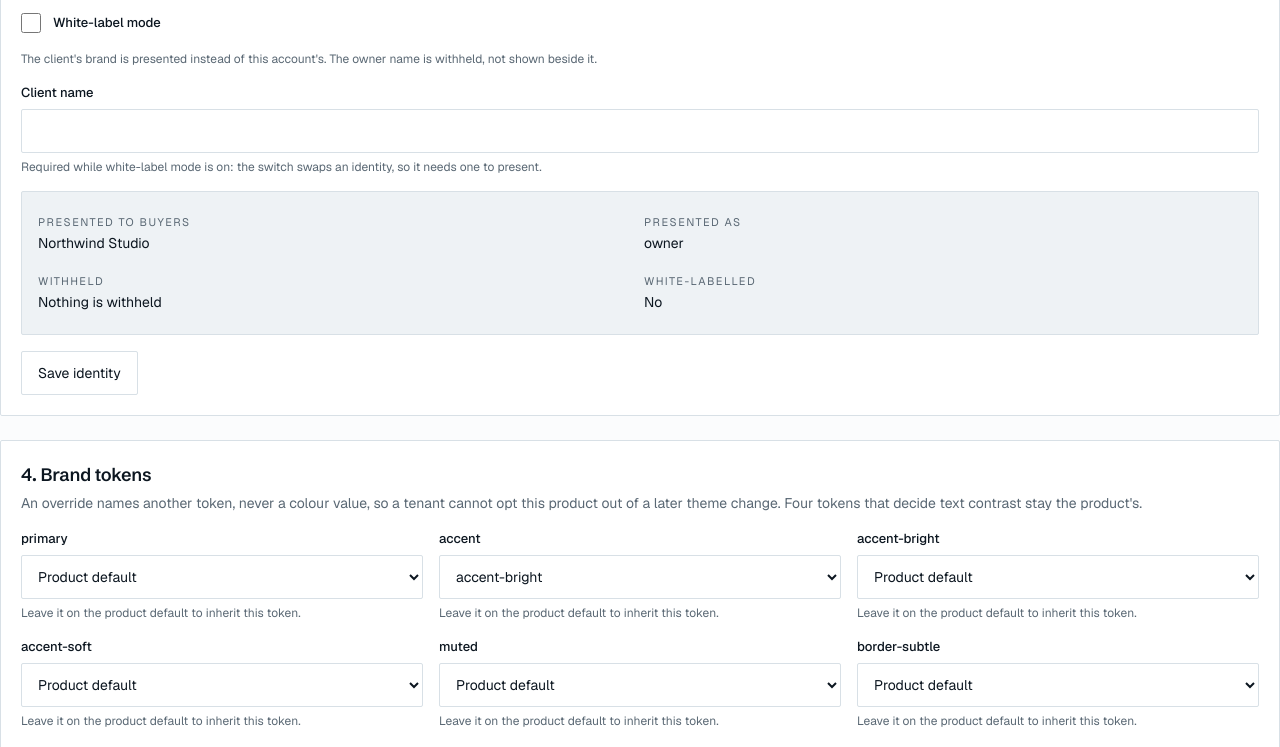
Test: the owner identity and white-label mode › reports a saved identity rather than staying silent
(page scrolled)
Step 1. Click the button "Save identity" → coordinates (79, 373), box 21,351 -> 138,395
(page scrolled)
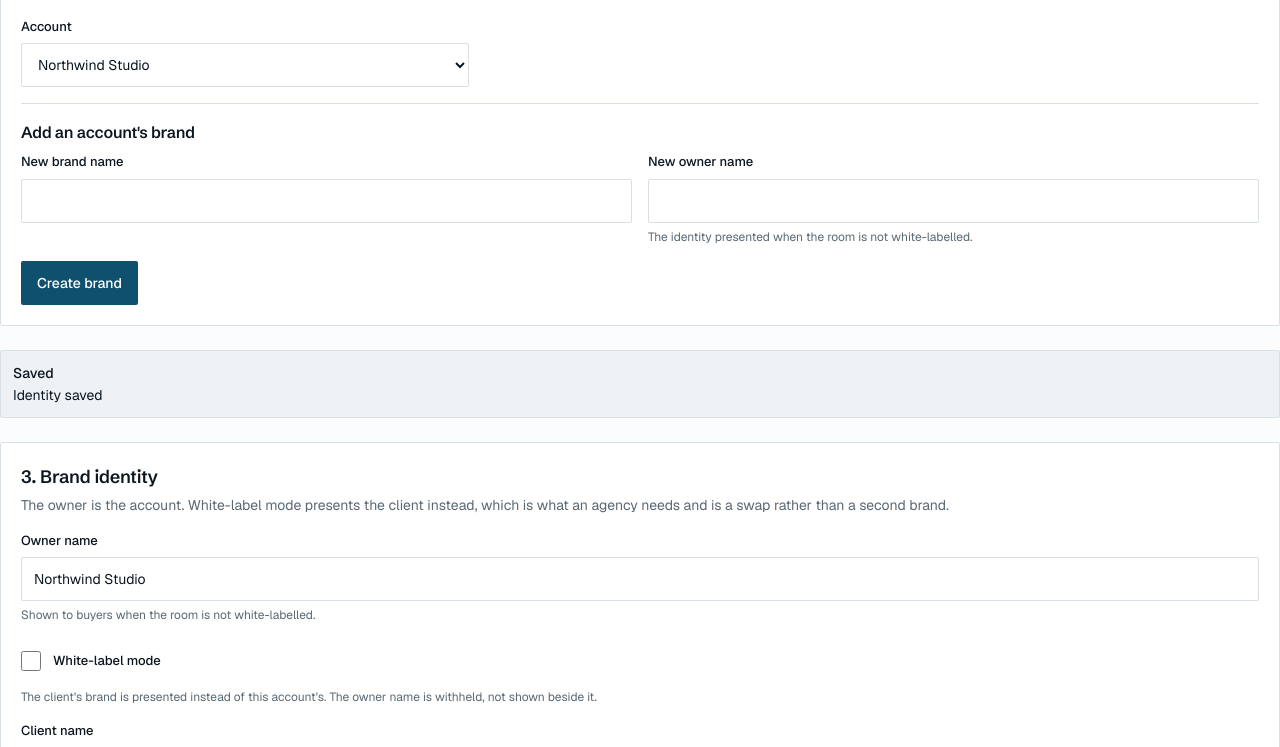
Expected: the text "Saved" is shown, 13,364 -> 54,382
